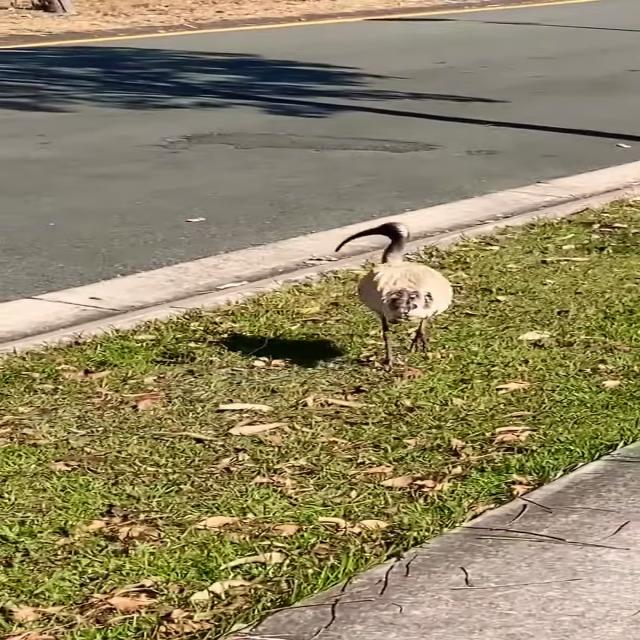Birds-Ibis: (331, 218, 460, 374)
